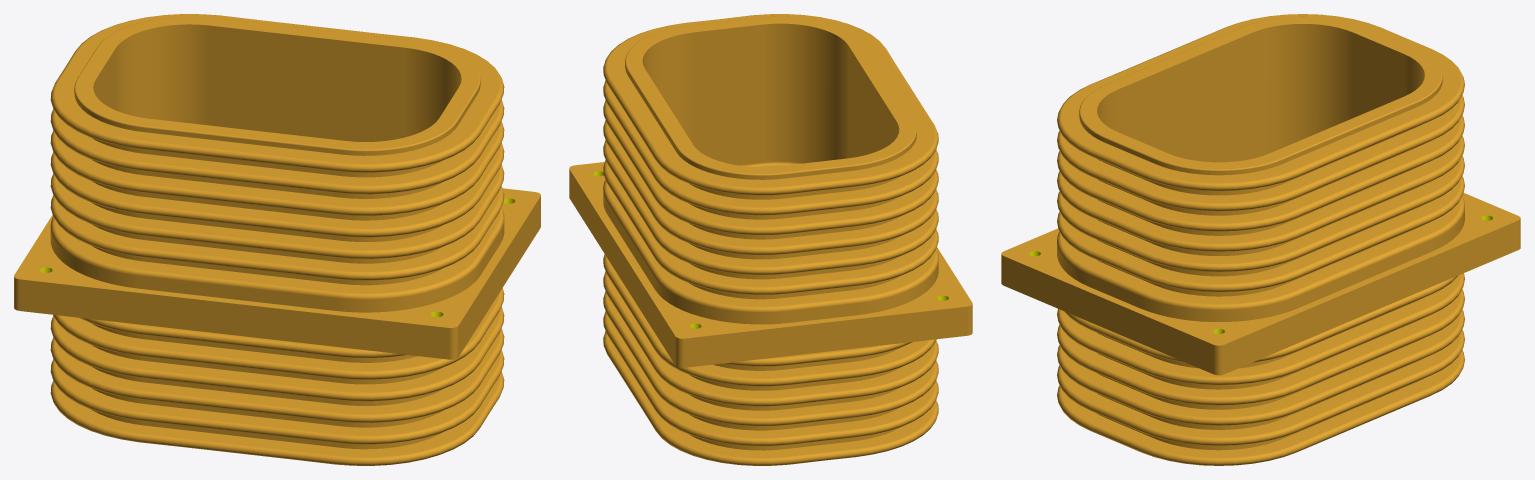
File: 04.11_izolyator-prokhodnoy-ip-20-175x255.glb
3 renders of one model, left to right at view 1: azimuth 30°, elevation 25°; view 2: azimuth 150°, elevation 25°; view 3: azimuth 270°, elevation 25°, orthographic. The views are drawn at different scales.
Visible parts, largest first — view 1: 04.11_izolyator-prokhodnoy-ip-20-175x255; view 2: 04.11_izolyator-prokhodnoy-ip-20-175x255; view 3: 04.11_izolyator-prokhodnoy-ip-20-175x255.
Boxes of the visible parts, left/top/right/bottom form: 04.11_izolyator-prokhodnoy-ip-20-175x255: left=14, top=14, right=540, bottom=465; 04.11_izolyator-prokhodnoy-ip-20-175x255: left=569, top=14, right=972, bottom=465; 04.11_izolyator-prokhodnoy-ip-20-175x255: left=1001, top=14, right=1520, bottom=465.
Size of the model in its own units: 349 by 218 by 349.
